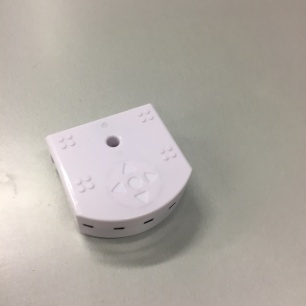thymio: (31, 100, 208, 250)
